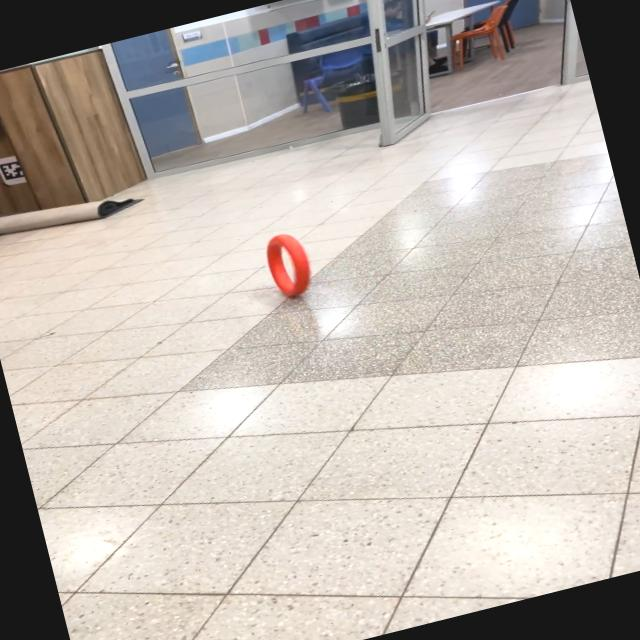note: (256, 226, 320, 303)
